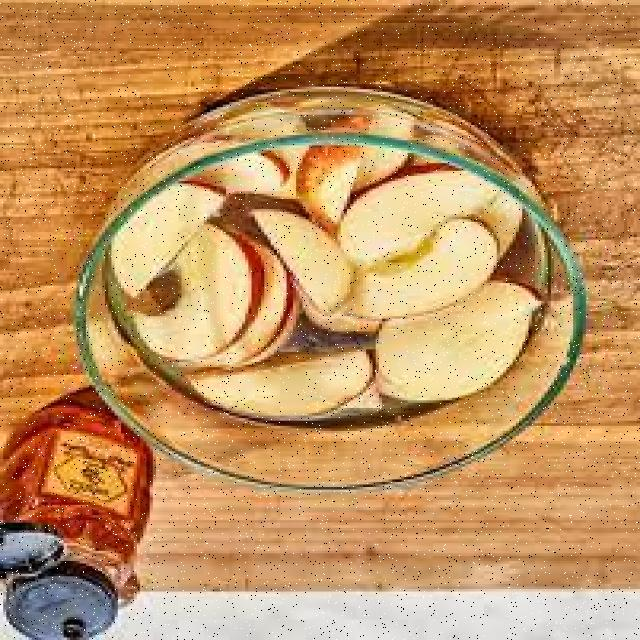Apple: (372, 288, 538, 385), (139, 238, 263, 358), (339, 167, 492, 259), (114, 178, 224, 290), (359, 222, 499, 310), (188, 355, 375, 420), (259, 200, 352, 312), (298, 133, 365, 230), (218, 151, 291, 198)
